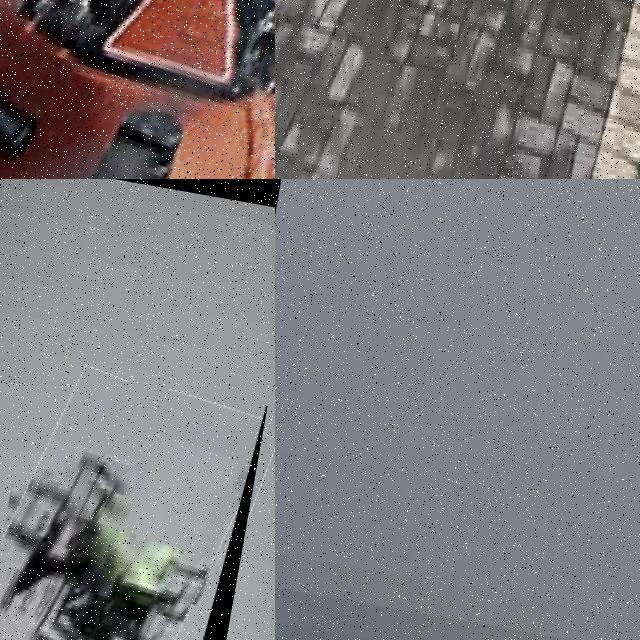0: (0, 364, 267, 640)
drone: (0, 0, 275, 179)
